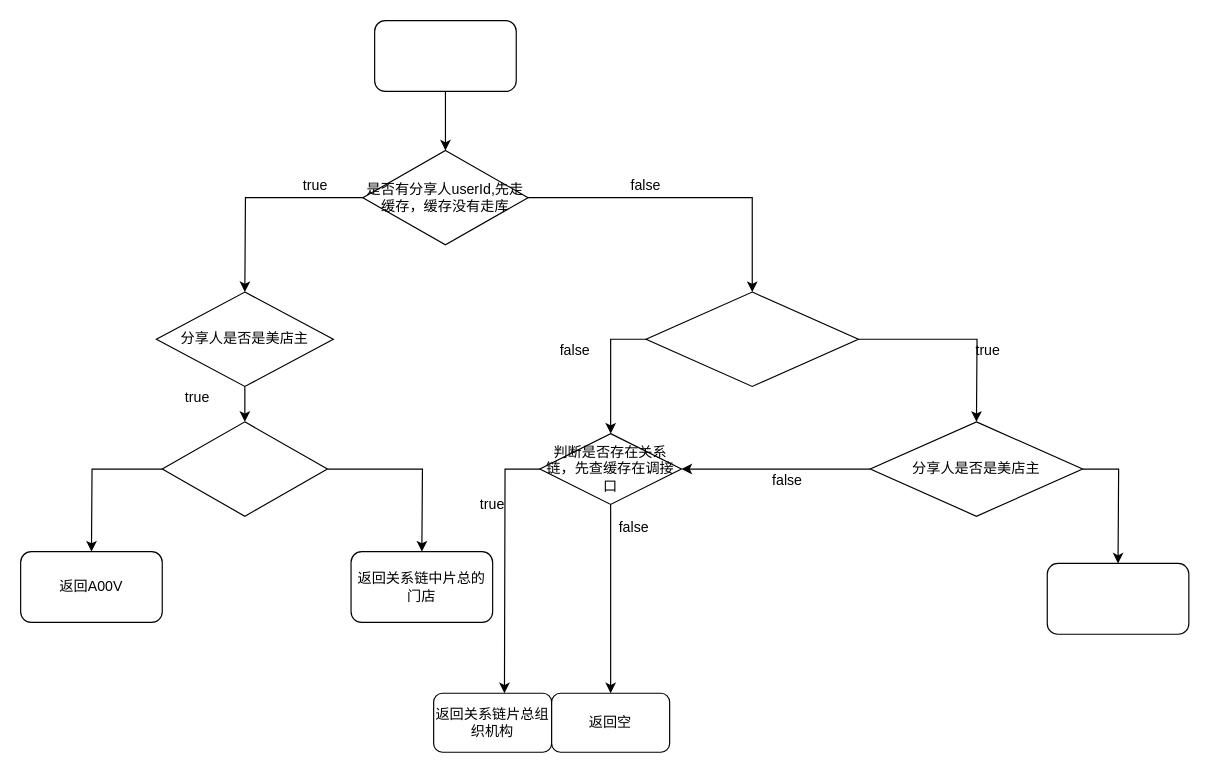
Image size: 1210x773. Some labels were removed from this diagram. The shapes that lost their labels are listed below. From the top down, each one's centre as x and y in pixels, then its label:
At pixel 444 55: "业绩还原".
At pixel 751 338: "是否使用券".
At pixel 244 468: "判断是否是大锤".
At pixel 1117 598: "返回分享券人的销售组织".
